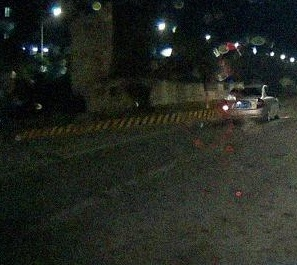L_light: (223, 100, 229, 110)
R_light: (258, 99, 264, 108)
T_light: (244, 88, 251, 90)
night-left: (222, 84, 266, 122)
